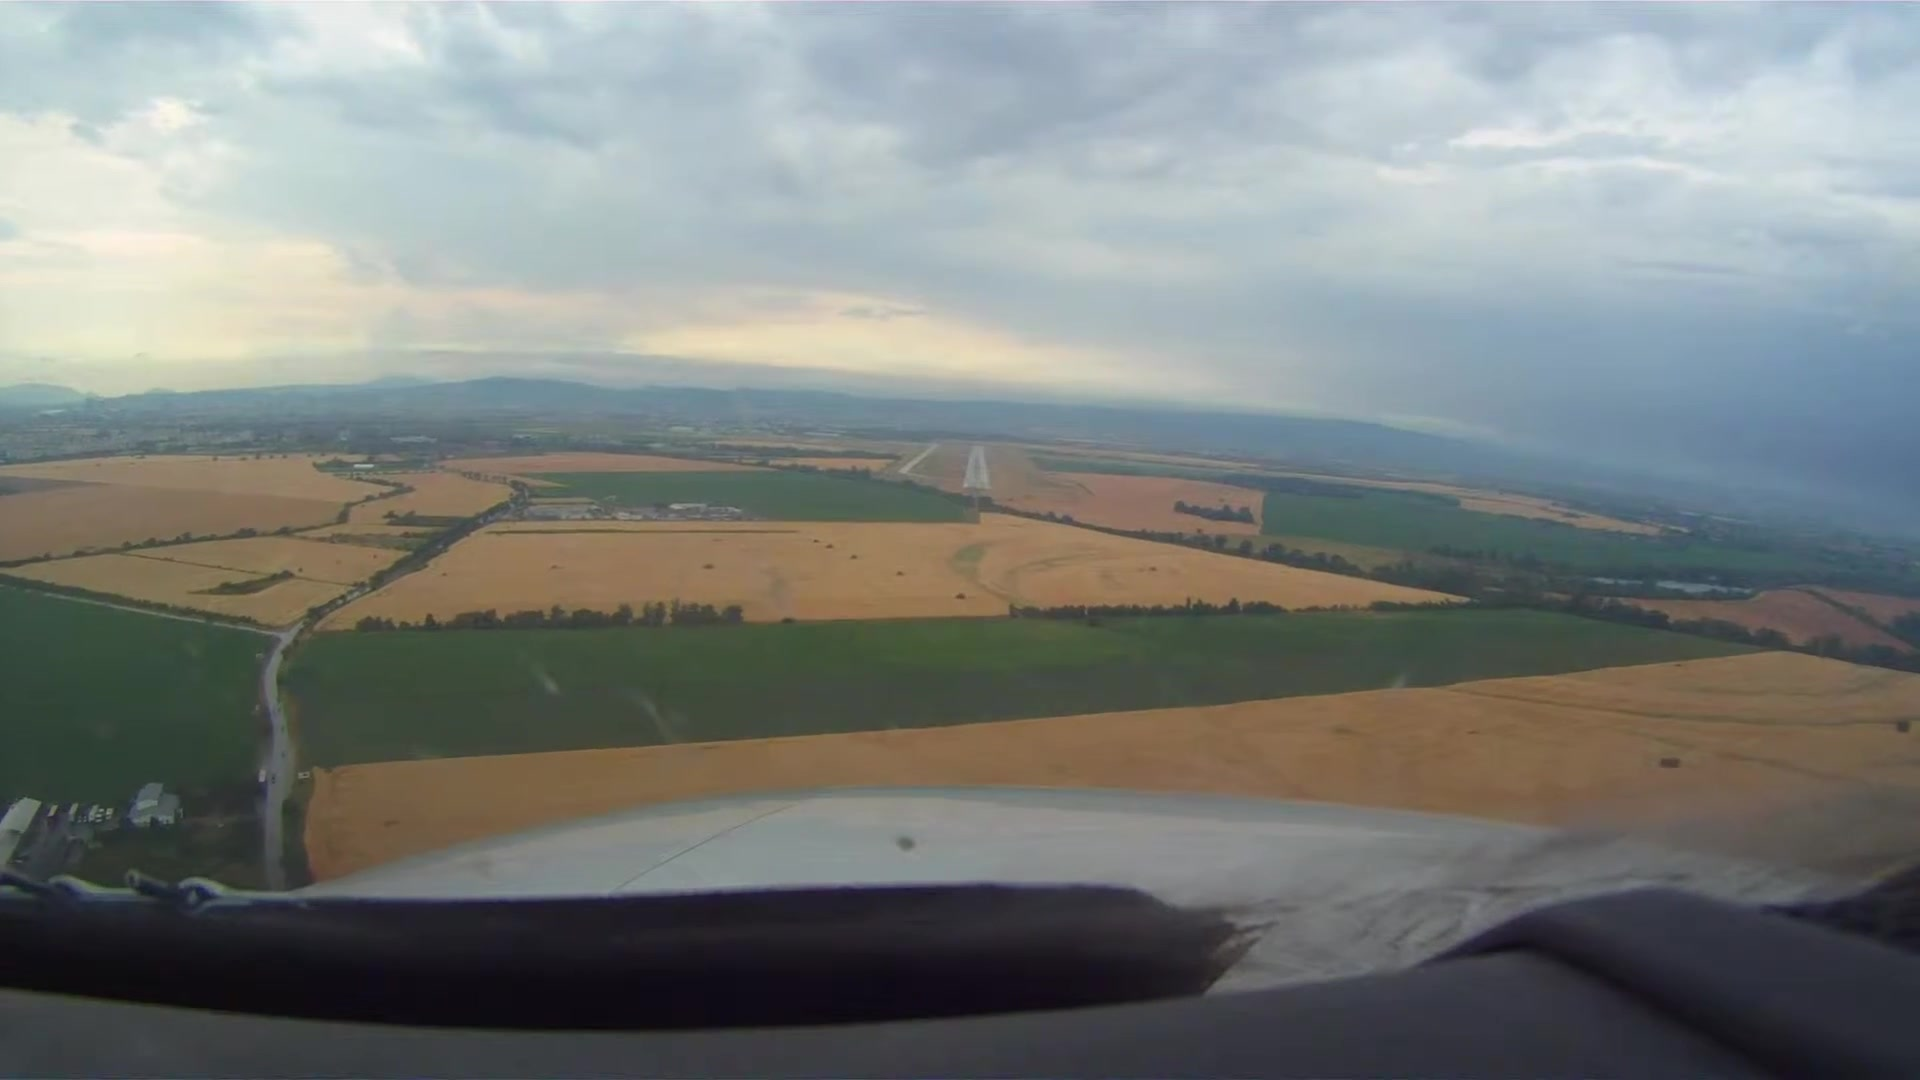runway: (960, 444, 993, 491)
